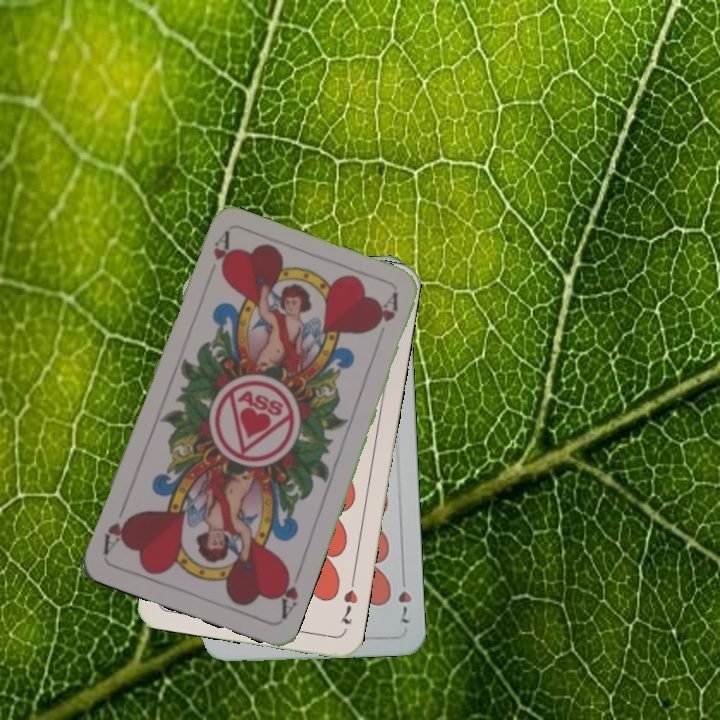H7: (336, 574, 361, 627), (394, 570, 414, 626)
HA: (273, 565, 304, 622), (209, 229, 233, 275)
